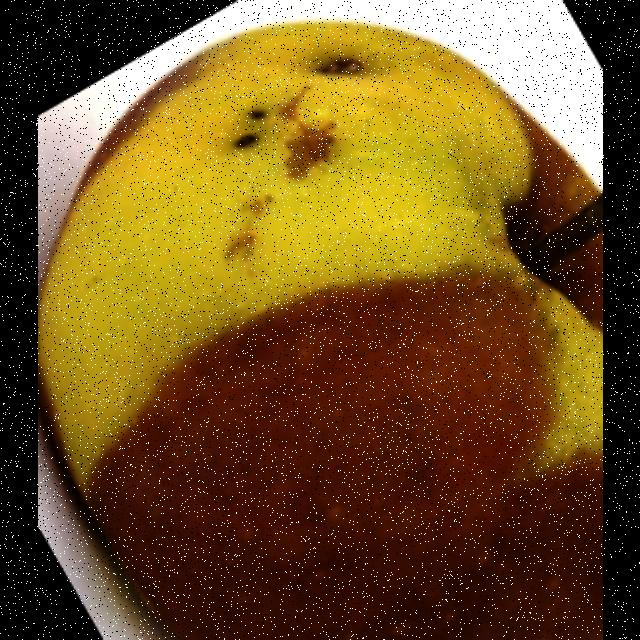Apel Tidak Segar: (38, 22, 603, 640)
